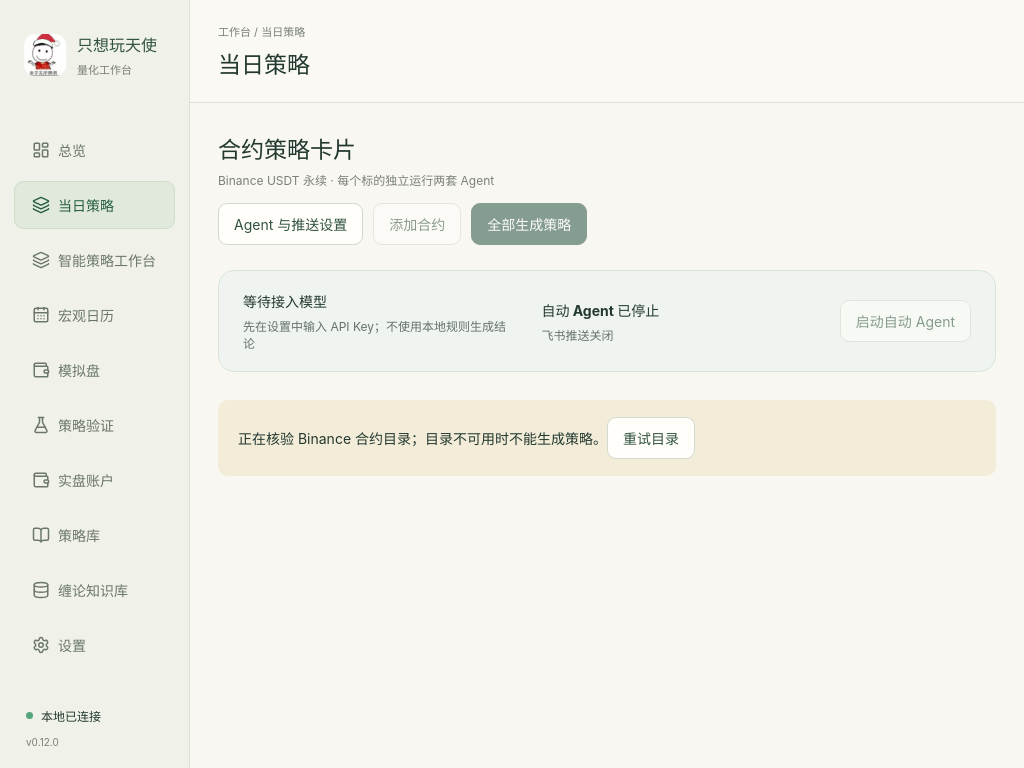
it: macro calendar shows Beijing time, values and market risk scenarios
Expected: the heading "合约策略卡片" is shown, 218,136 -> 356,164
What coordinates should you click on to do the following:
click the button "宏观日历"
I would click on:
 (94, 315)
Its box is 14,291 -> 175,339.
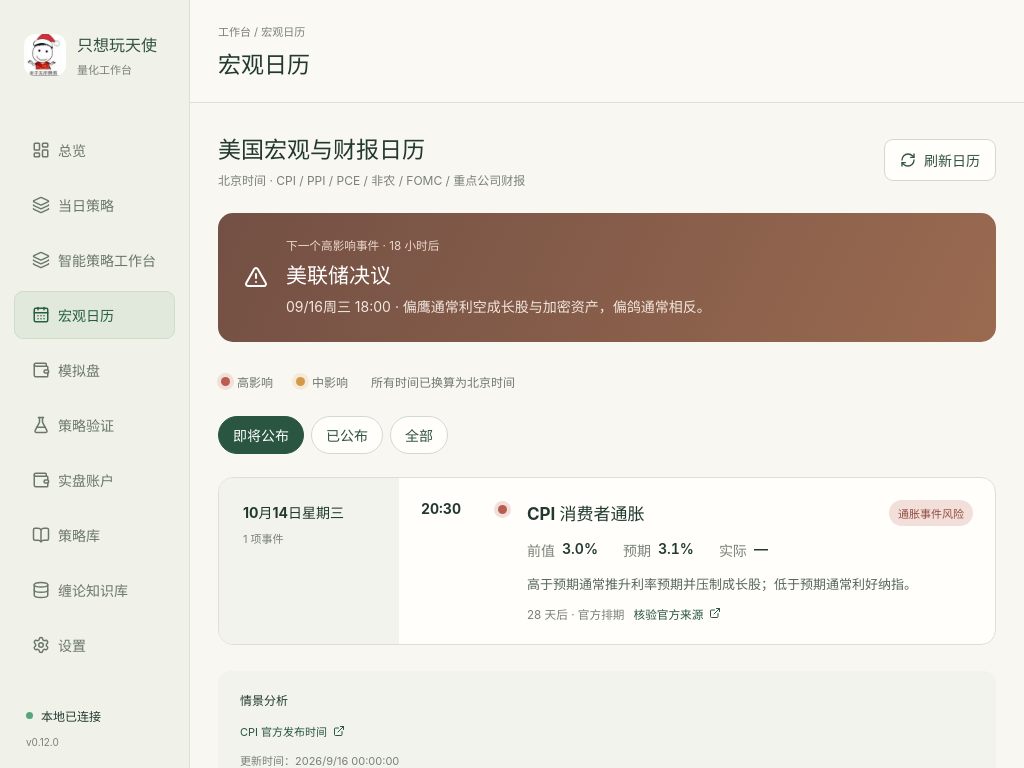
Expected: the heading "美国宏观与财报日历" is shown, 218,136 -> 425,164
Expected: the heading "CPI 消费者通胀" is shown, 527,500 -> 644,525
Expected: the text "3.1%" is shown, 658,540 -> 694,560
